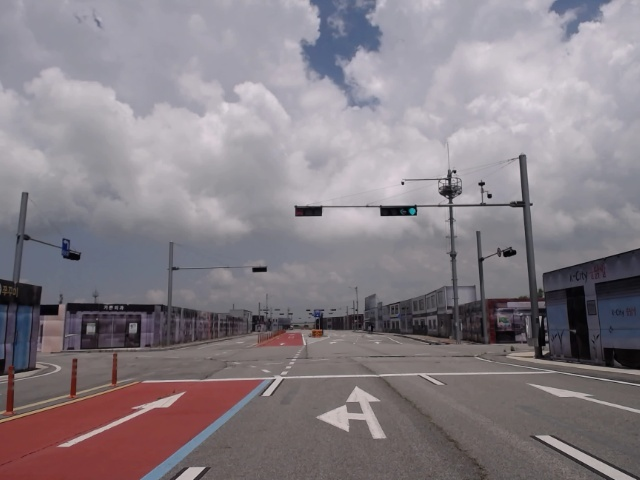all_green_4: (382, 205, 417, 218)
